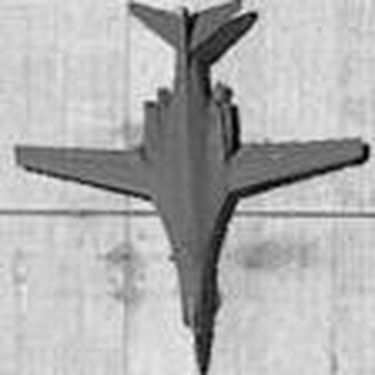airplane: (2, 1, 367, 370)
